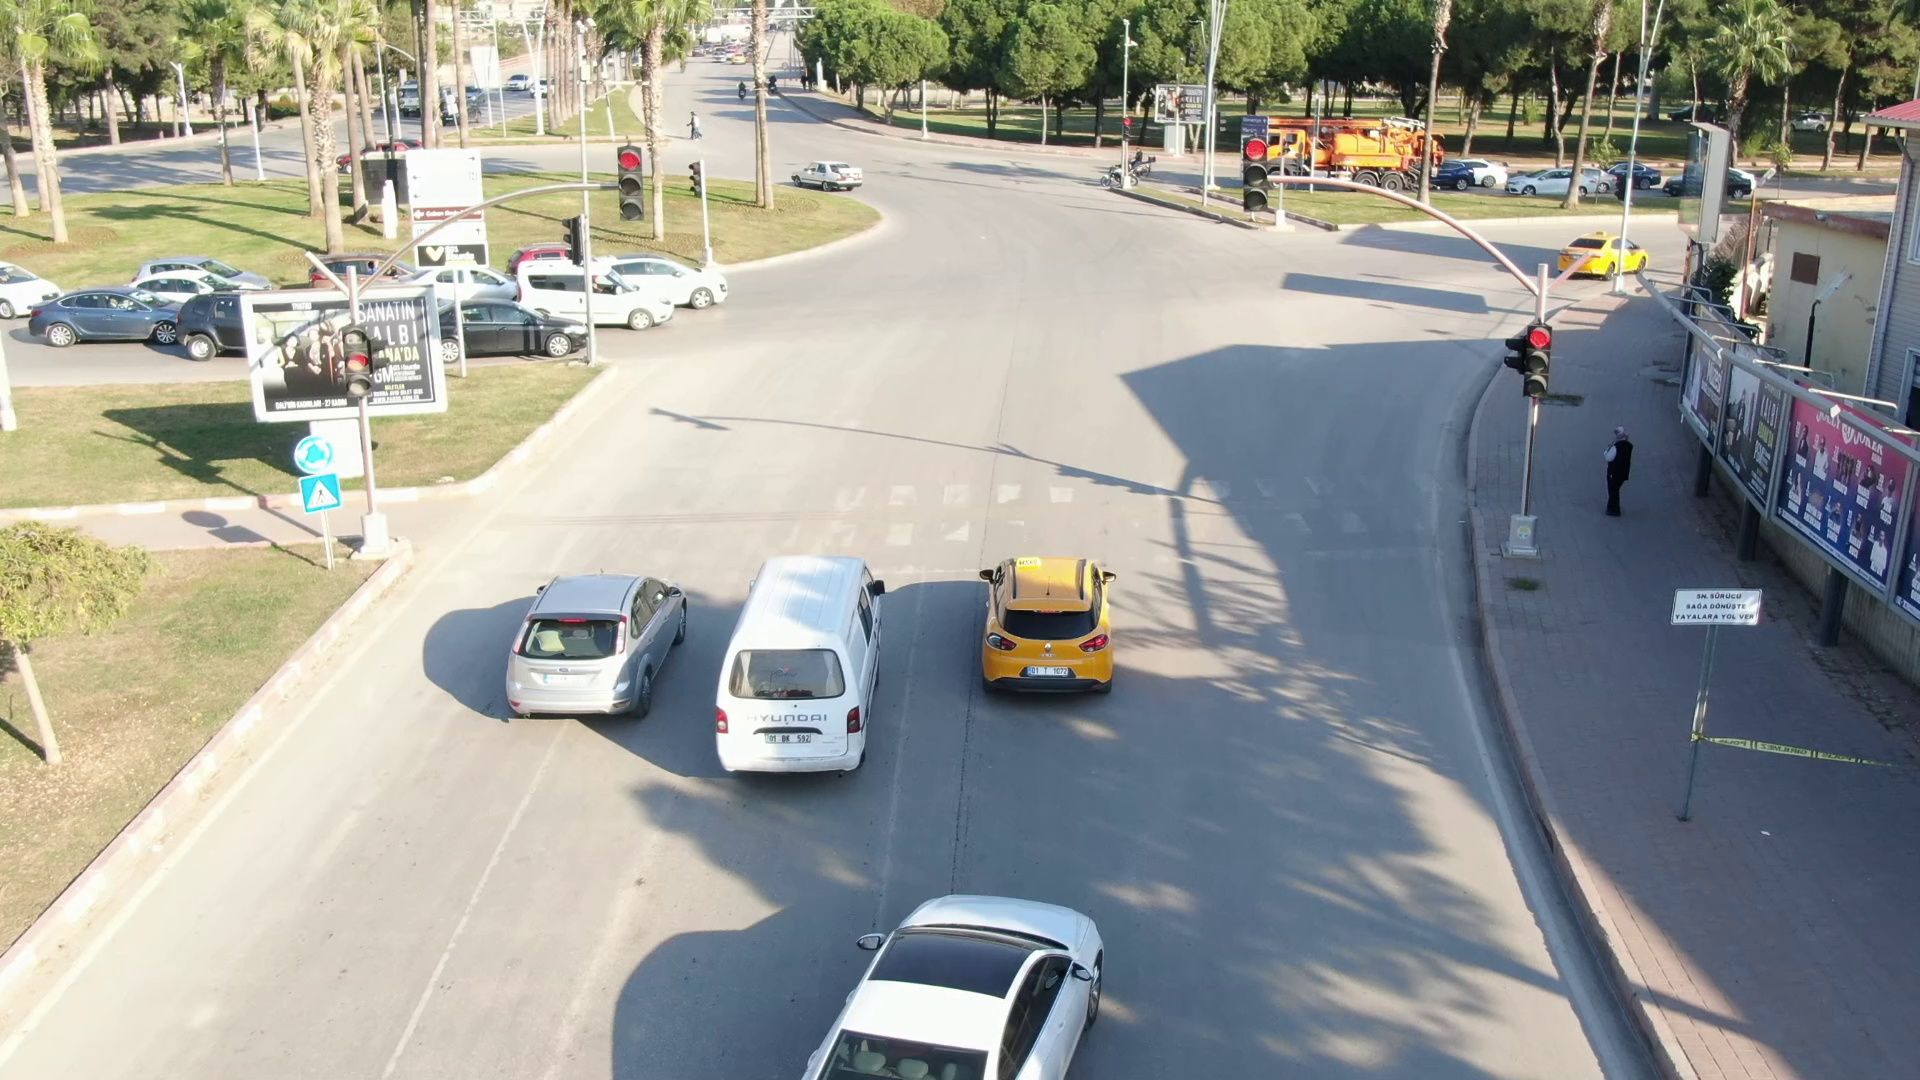car: (811, 886, 1108, 1080), (706, 559, 886, 788), (502, 570, 692, 729), (966, 551, 1123, 698), (512, 257, 676, 327), (433, 306, 592, 355), (614, 253, 731, 302), (1557, 229, 1649, 284), (780, 153, 870, 190)
person: (1598, 423, 1645, 523)
